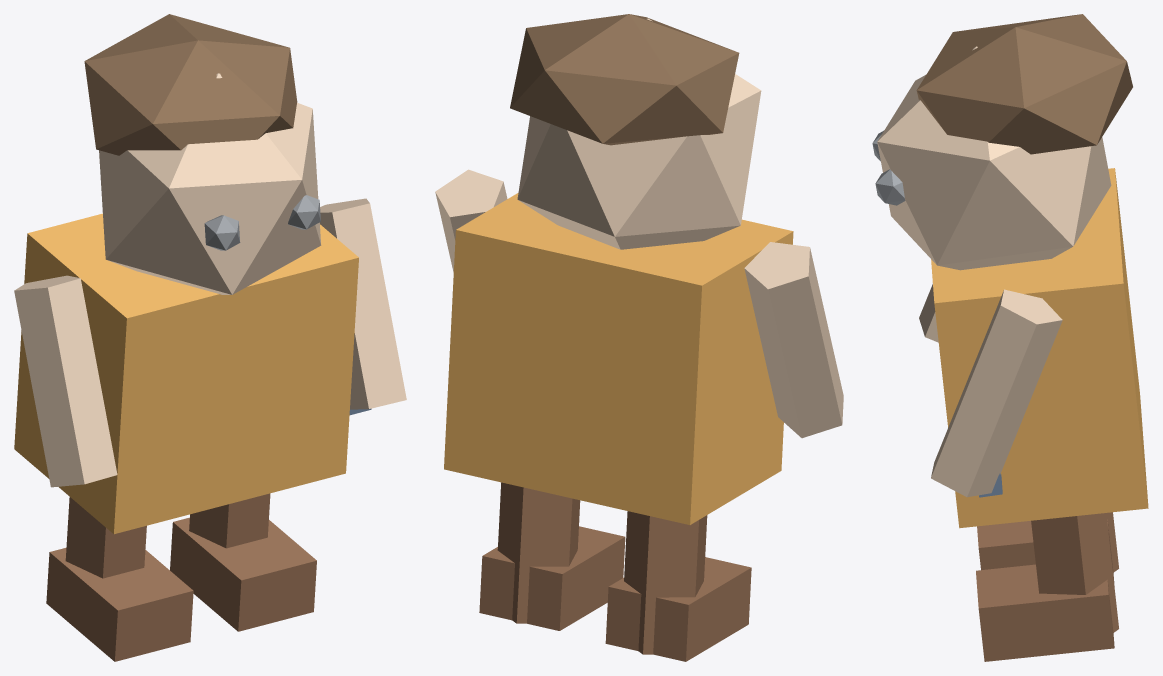
File: npcpose_villager_walk_01.glb
The picture shows the model from 3 angles, left to right: view 1: azimuth 30°, elevation 25°; view 2: azimuth 150°, elevation 25°; view 3: azimuth 270°, elevation 25°; orthographic projection. The views are drawn at different scales.
Visible parts, largest first — view 1: npcpose; view 2: npcpose; view 3: npcpose.
Boxes of the visible parts, x1,y1,x2,y2 form: npcpose: (14, 14, 406, 661); npcpose: (435, 14, 843, 661); npcpose: (872, 14, 1148, 661).
Size of the model in its own units: 0.7011 by 1.09 by 0.4642.
